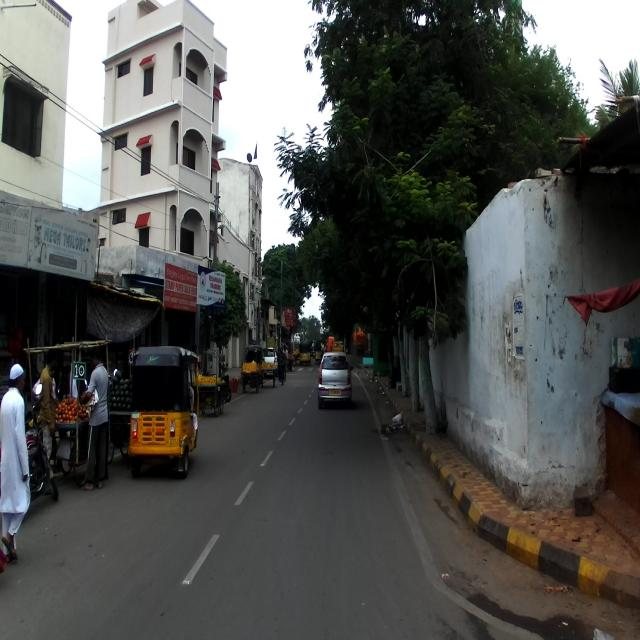autorickshaw: (128, 343, 202, 480)
car: (317, 348, 353, 408)
motorcycle: (21, 382, 59, 510)
